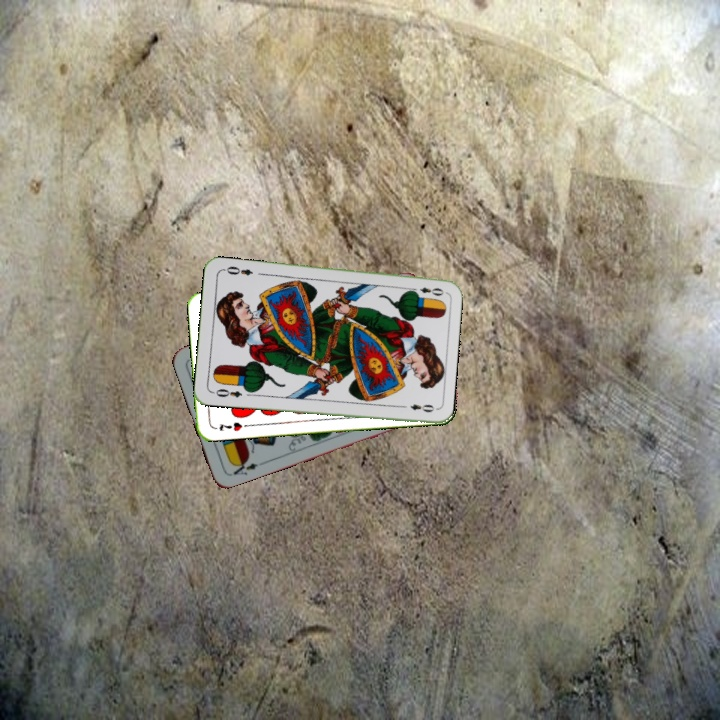EA: (229, 456, 266, 478)
EO: (406, 283, 446, 298), (208, 384, 244, 400)
H7: (215, 418, 244, 434)
